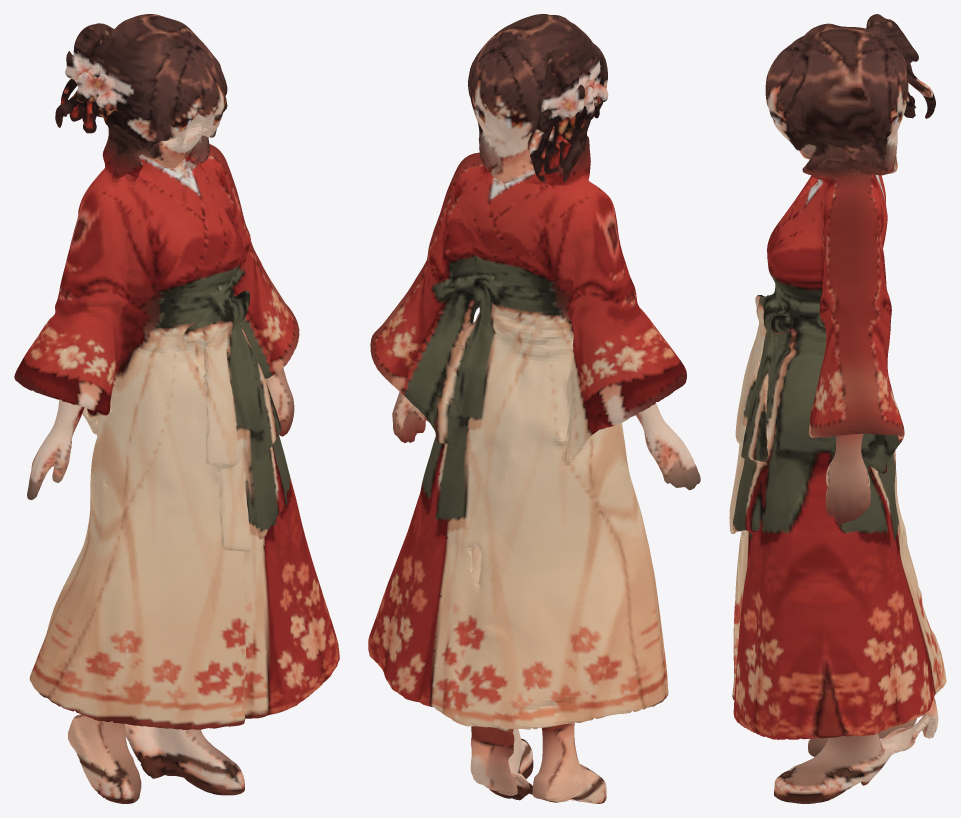
Rendered from Mika-Kimono-Colored.glb.
3 views of the same model, side by side, from view 1: azimuth 30°, elevation 25°; view 2: azimuth 150°, elevation 25°; view 3: azimuth 270°, elevation 25° (orthographic). The views are drawn at different scales.
Visible parts, largest first — view 1: tmpkhfa1zjx.ply; view 2: tmpkhfa1zjx.ply; view 3: tmpkhfa1zjx.ply.
Part boxes in pixels (x1=…): tmpkhfa1zjx.ply: x1=14, y1=14, x2=339, y2=803; tmpkhfa1zjx.ply: x1=368, y1=14, x2=700, y2=803; tmpkhfa1zjx.ply: x1=729, y1=14, x2=946, y2=803.
Bounding box in the file's own units: 0.8301 × 1.96 × 0.5167.
